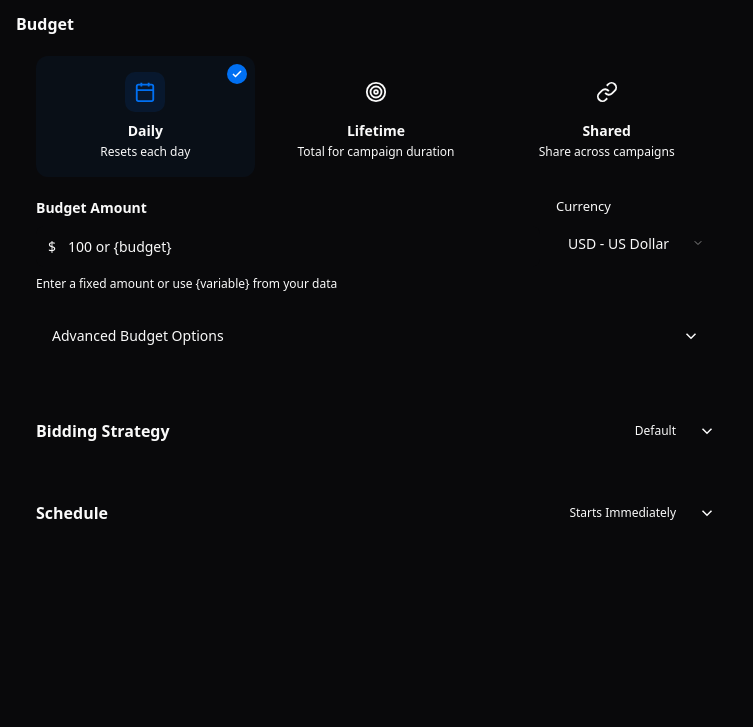
Test case: BudgetBiddingConfig › Platform-specific Behavior › passes platform to bidding strategy selector
Note: Expand bidding section
Click the button "Bidding Strategy Default".
click(103, 431)  # box [16,402,736,460]
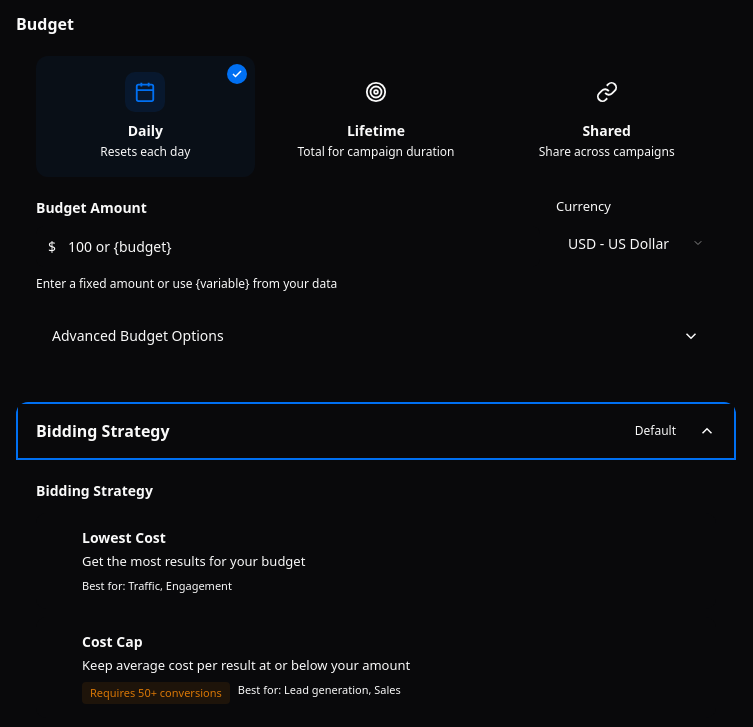
Now the radio button with test id "strategy-cost_cap" is shown, box [36,617,716,718]
